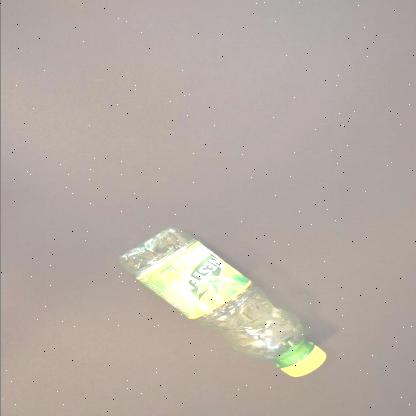Plastic Bottle: (118, 230, 326, 378)
